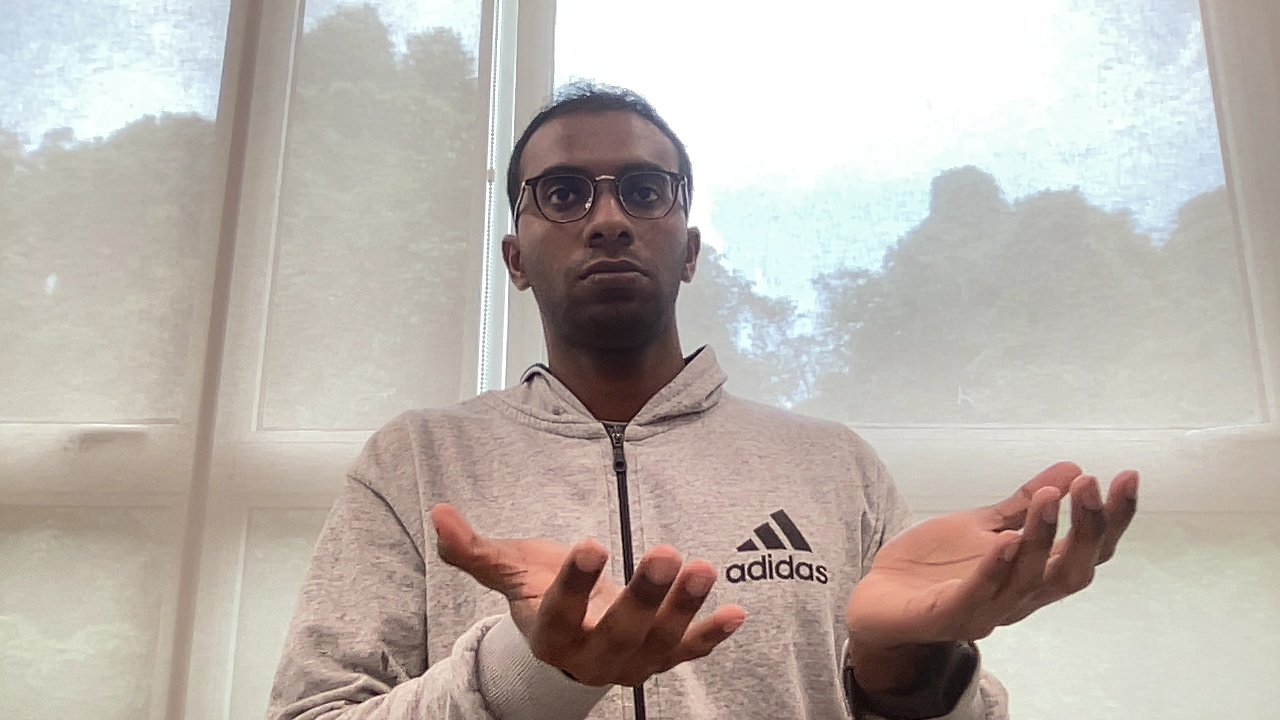give: (424, 456, 1148, 686)
